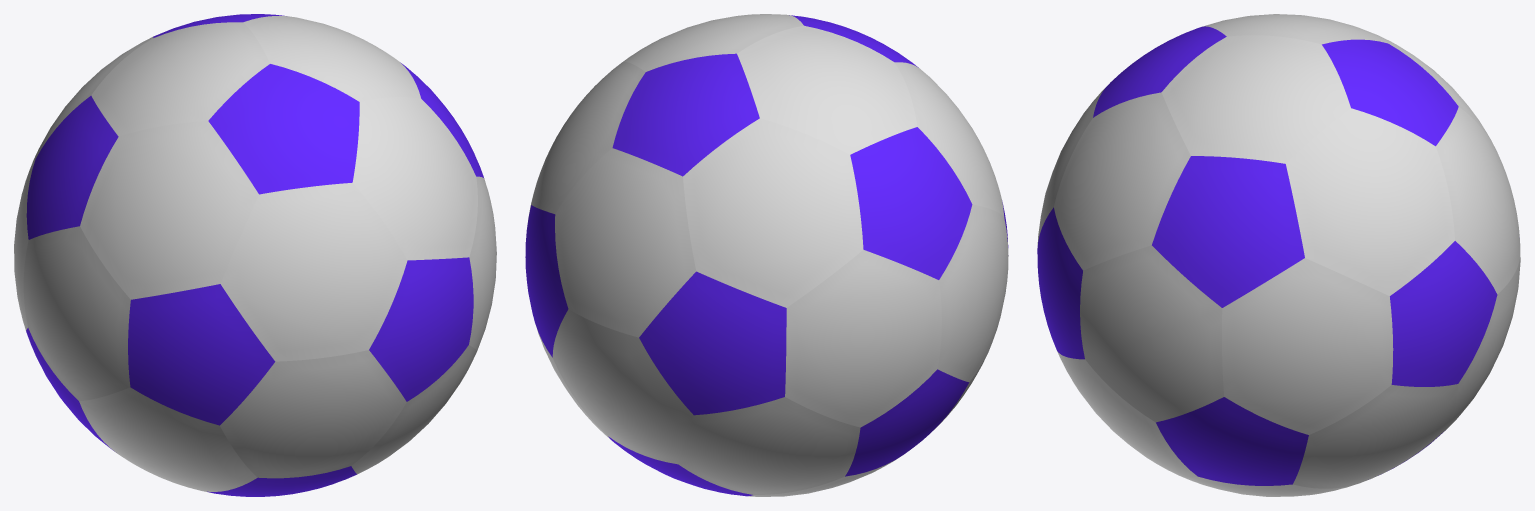
File: moving  ball small.dae
3 renders of one model, left to right at view 1: azimuth 30°, elevation 25°; view 2: azimuth 150°, elevation 25°; view 3: azimuth 270°, elevation 25°, orthographic.
Visible parts, largest first — view 1: Solid; view 2: Solid; view 3: Solid.
Boxes of the visible parts, x1,y1,x2,y2 form: Solid: (14,14,496,496); Solid: (525,14,1008,496); Solid: (1037,14,1520,496).
Size of the model in its own units: 1.68 by 1.68 by 1.68.
